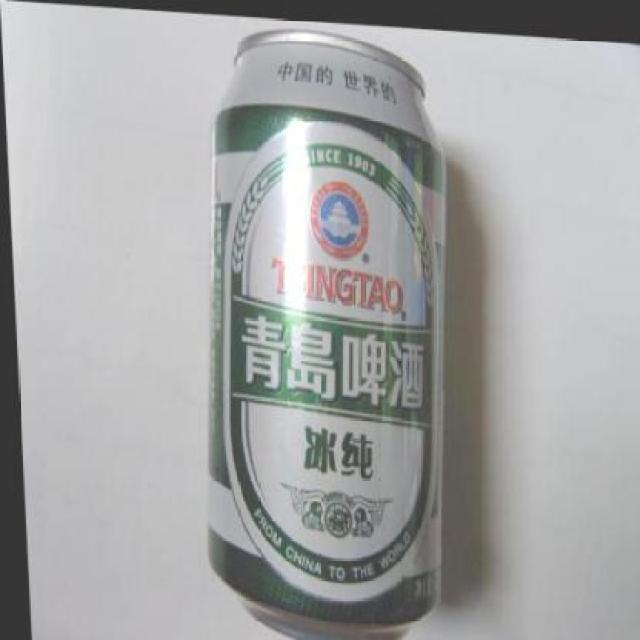Metal: (202, 16, 453, 640)
